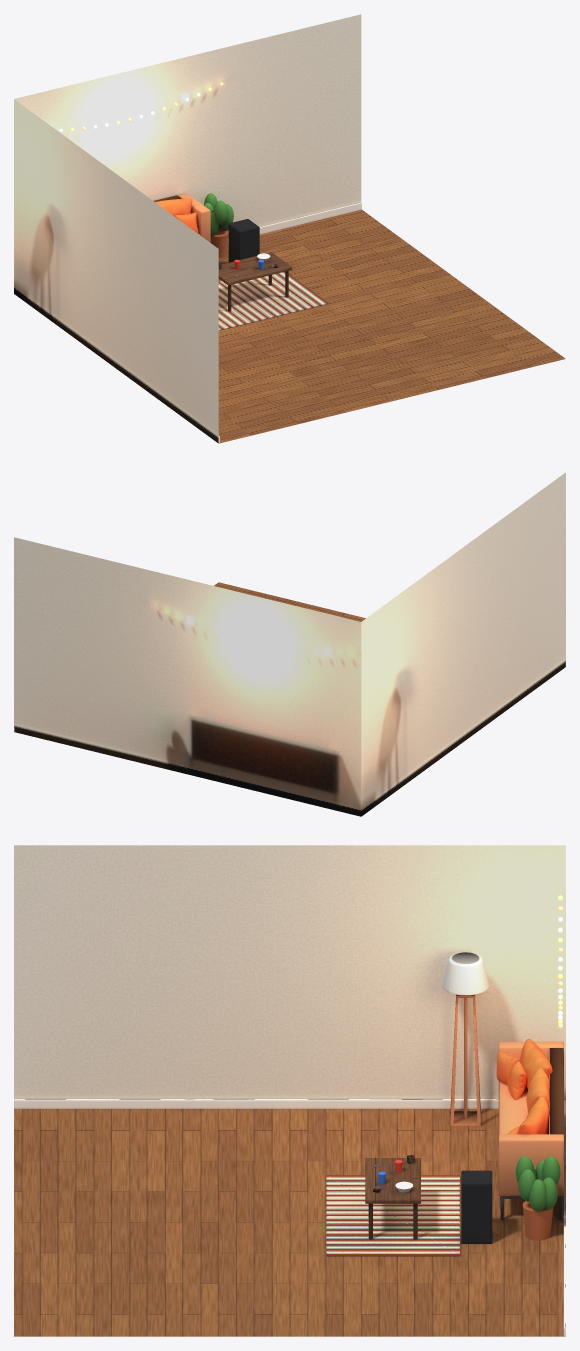
Rendered from escenario_pastillas-jLwYJnP5.glb.
The picture shows the model from 3 angles, top to bottom: view 1: azimuth 30°, elevation 25°; view 2: azimuth 150°, elevation 25°; view 3: azimuth 270°, elevation 25°; orthographic projection. The views are drawn at different scales.
Visible parts, largest first — view 1: Pared_fondo, Piso, Pared_izq, Alfombra, Mueble_Sofa, Mesa_tope, Bocina, Zocalo_fondo; view 2: Pared_fondo, Pared_izq, Piso; view 3: Pared_izq, Piso, Alfombra, Mueble_Sofa, Zocalo_izq, Mueble_CornerLight, Bocina, Mesa_tope, Maceta, Zocalo_fondo.
Boxes of the visible parts, <box> form: Pared_fondo: <box>14,14,361,227</box>; Piso: <box>218,210,565,443</box>; Pared_izq: <box>14,99,218,443</box>; Alfombra: <box>218,271,328,330</box>; Mueble_Sofa: <box>154,193,210,242</box>; Mesa_tope: <box>218,252,292,285</box>; Bocina: <box>228,219,259,262</box>; Zocalo_fondo: <box>228,202,361,242</box>; Pared_fondo: <box>14,537,361,816</box>; Pared_izq: <box>361,472,565,816</box>; Piso: <box>214,582,365,621</box>; Pared_izq: <box>14,845,565,1098</box>; Piso: <box>14,1109,563,1336</box>; Alfombra: <box>326,1175,459,1256</box>; Mueble_Sofa: <box>496,1039,563,1219</box>; Zocalo_izq: <box>14,1099,565,1108</box>; Mueble_CornerLight: <box>442,952,489,1126</box>; Bocina: <box>461,1170,492,1243</box>; Mesa_tope: <box>365,1158,420,1203</box>; Maceta: <box>522,1201,553,1240</box>; Zocalo_fondo: <box>563,1099,565,1336</box>.
Bounding box in the file's own units: 4.85 × 2.6 × 4.95.
18 materials, 14 textured.
